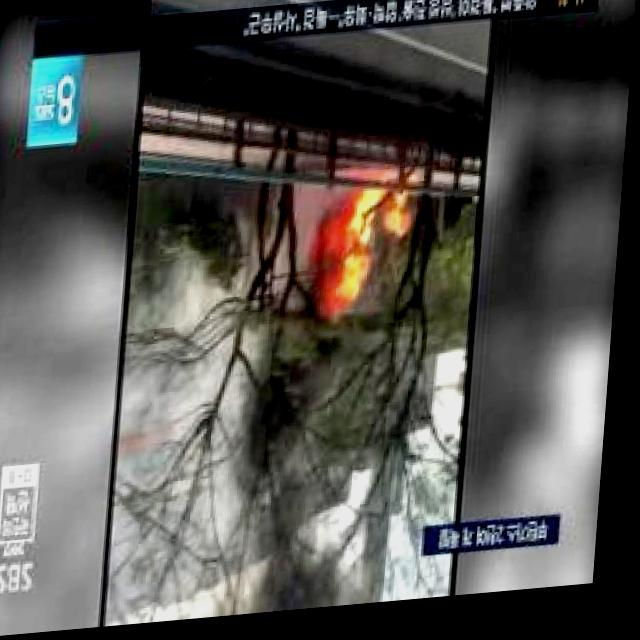Fire: (321, 187, 392, 303), (397, 177, 417, 245)
Smoke: (105, 237, 270, 630)
